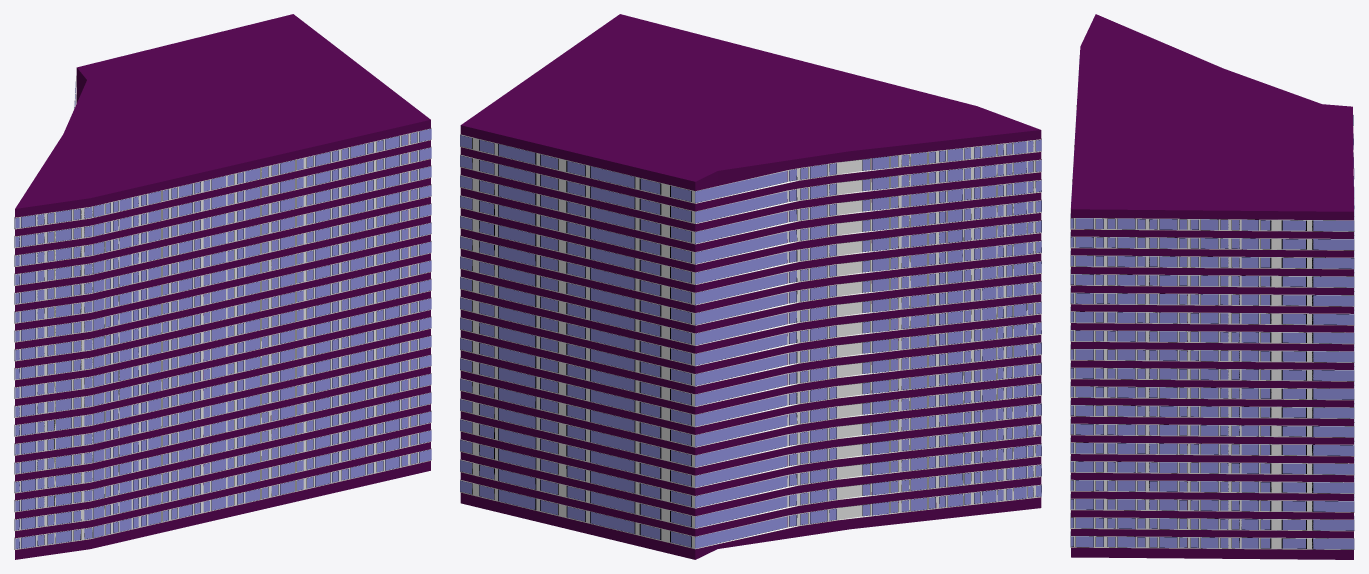
Rendered from Sixty.fbx.
3 views of the same model, side by side, from view 1: azimuth 30°, elevation 25°; view 2: azimuth 150°, elevation 25°; view 3: azimuth 270°, elevation 25° (orthographic). The views are drawn at different scales.
Parts seen in each view (by area): view 1: Sixty; view 2: Sixty; view 3: Sixty.
Part boxes in pixels (x1=…): Sixty: x1=14, y1=14, x2=431, y2=559; Sixty: x1=460, y1=14, x2=1041, y2=559; Sixty: x1=1070, y1=14, x2=1354, y2=559.
Bounding box in the file's own units: 7421 × 6074 × 4498.
